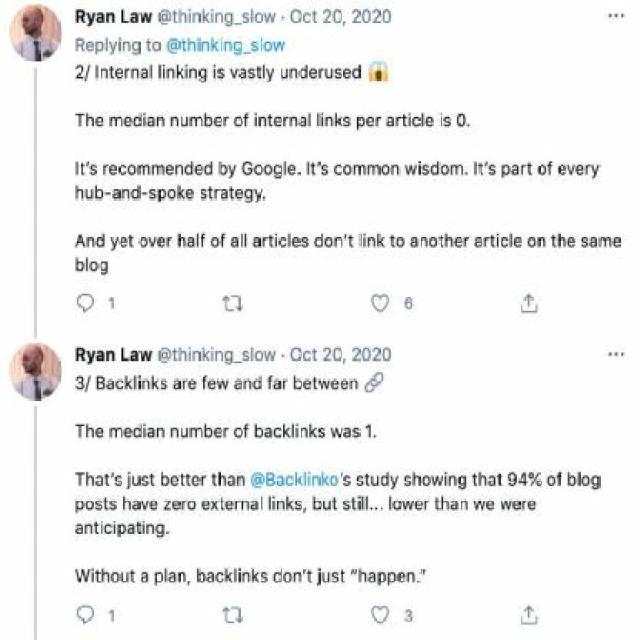0: (457, 112, 466, 128), (333, 8, 341, 24), (362, 8, 370, 24), (383, 8, 391, 24), (383, 346, 391, 362), (333, 347, 341, 361), (362, 347, 370, 361)
1: (108, 296, 115, 310), (108, 609, 115, 622), (366, 424, 372, 438)
2: (74, 64, 84, 80), (352, 346, 361, 362), (323, 8, 331, 24), (372, 8, 380, 24), (323, 346, 331, 362), (373, 346, 381, 362), (352, 8, 359, 24)
3: (76, 376, 84, 390), (404, 609, 412, 622)
4: (518, 472, 528, 488)
6: (404, 296, 413, 310)
9: (508, 472, 517, 488)
A: (95, 349, 106, 362), (76, 234, 86, 248), (298, 116, 308, 129), (386, 116, 396, 129), (252, 236, 262, 249), (588, 236, 598, 249), (187, 236, 196, 250), (410, 236, 419, 250), (95, 474, 104, 488), (227, 474, 236, 488), (488, 474, 497, 488), (74, 522, 83, 536), (127, 522, 136, 536), (140, 570, 149, 584), (168, 570, 177, 584), (207, 570, 216, 584), (238, 68, 248, 80), (172, 378, 182, 390), (96, 11, 105, 24), (130, 12, 139, 25), (147, 116, 156, 129), (230, 236, 239, 249), (473, 236, 482, 249), (130, 349, 139, 362), (106, 378, 115, 391), (233, 378, 242, 391), (263, 426, 272, 439), (250, 499, 259, 512), (276, 474, 284, 488), (368, 570, 376, 584), (343, 426, 351, 439), (132, 499, 140, 512), (450, 499, 458, 512), (140, 68, 148, 80), (512, 164, 520, 176), (112, 188, 120, 200), (220, 188, 228, 200), (147, 428, 156, 438), (273, 378, 281, 389)
B: (204, 423, 213, 439), (254, 423, 263, 439), (160, 471, 169, 487), (197, 568, 206, 584), (218, 160, 228, 174), (312, 496, 322, 510), (266, 472, 276, 486), (95, 184, 104, 199), (76, 256, 84, 272), (568, 471, 576, 487), (204, 113, 213, 127), (96, 376, 105, 390), (293, 376, 302, 390)
C: (284, 474, 294, 488), (214, 570, 223, 584), (278, 235, 287, 248), (104, 522, 113, 535), (302, 12, 312, 23), (118, 164, 127, 176), (412, 115, 420, 128), (116, 378, 124, 391), (274, 426, 282, 439), (303, 349, 311, 362), (334, 164, 342, 176), (501, 236, 508, 249)
D: (298, 64, 308, 80), (252, 374, 262, 390), (273, 567, 282, 584), (184, 160, 193, 176), (96, 232, 105, 248), (133, 423, 142, 439), (353, 64, 361, 80), (314, 232, 322, 248), (133, 113, 142, 127), (204, 162, 213, 176), (131, 186, 140, 200), (381, 471, 388, 487), (431, 161, 438, 176)
E: (612, 236, 622, 249), (115, 66, 124, 80), (123, 114, 132, 128), (214, 114, 223, 128), (170, 474, 179, 488), (397, 570, 406, 584), (302, 378, 312, 390), (95, 116, 104, 129), (273, 116, 282, 129), (119, 236, 128, 249), (157, 235, 166, 248), (454, 236, 463, 249), (567, 235, 576, 248), (188, 378, 197, 391), (95, 426, 104, 439), (123, 426, 132, 439), (213, 426, 222, 439), (201, 499, 210, 512), (224, 498, 233, 511), (414, 499, 423, 512), (528, 499, 537, 512), (192, 474, 200, 488), (109, 164, 118, 176), (164, 164, 173, 176), (194, 164, 203, 176), (287, 164, 296, 176), (234, 188, 243, 200), (367, 115, 375, 128), (425, 116, 433, 129), (292, 235, 300, 248), (514, 236, 522, 249), (172, 499, 180, 512), (487, 499, 495, 512), (512, 498, 520, 511), (150, 499, 158, 512), (308, 68, 318, 78), (86, 40, 95, 51), (208, 379, 217, 390), (343, 68, 351, 80), (558, 164, 566, 176), (576, 164, 584, 176), (186, 188, 194, 200), (340, 378, 348, 390), (332, 378, 339, 390)
F: (558, 470, 564, 488), (243, 112, 249, 128), (547, 160, 553, 176), (200, 232, 206, 248), (202, 374, 208, 390), (243, 423, 249, 439), (267, 374, 273, 389), (221, 234, 227, 248)
G: (241, 161, 254, 176), (198, 67, 208, 84), (224, 12, 233, 28), (233, 40, 242, 56), (273, 164, 282, 180), (244, 188, 253, 204), (224, 350, 233, 366), (157, 523, 166, 539), (458, 474, 466, 491), (100, 260, 108, 276), (592, 474, 600, 490), (132, 41, 140, 56)
H: (478, 471, 488, 486), (412, 472, 422, 486), (122, 496, 132, 510), (86, 471, 95, 486), (218, 471, 227, 486), (179, 8, 187, 24), (444, 232, 452, 248), (558, 232, 566, 248), (86, 423, 94, 439), (188, 37, 196, 51), (75, 184, 83, 198), (179, 347, 187, 361), (102, 568, 110, 582), (359, 568, 367, 582), (86, 113, 94, 127), (178, 234, 185, 248), (442, 496, 449, 510)
I: (416, 160, 422, 176), (306, 472, 312, 486), (495, 232, 500, 248), (443, 471, 448, 486), (356, 496, 361, 510), (408, 111, 412, 127), (274, 232, 278, 248), (272, 496, 276, 510), (211, 8, 214, 24), (220, 35, 223, 51), (185, 63, 188, 79), (213, 64, 216, 80), (143, 112, 146, 128), (254, 111, 257, 127), (440, 112, 443, 128), (143, 422, 146, 438), (100, 520, 103, 536), (91, 568, 94, 584), (197, 37, 200, 51), (162, 64, 165, 78), (363, 232, 366, 246), (211, 347, 214, 361), (113, 520, 116, 534), (306, 162, 309, 176), (474, 162, 477, 176), (188, 8, 190, 24), (118, 36, 120, 52), (322, 112, 324, 128), (188, 346, 190, 362), (138, 374, 140, 390), (296, 423, 298, 439), (142, 519, 144, 535), (96, 64, 98, 80), (76, 161, 78, 176), (238, 568, 240, 582)
J: (124, 472, 130, 490), (316, 568, 321, 586)
K: (202, 8, 210, 24), (210, 36, 218, 52), (176, 64, 184, 80), (334, 112, 342, 128), (377, 232, 385, 248), (309, 423, 317, 439), (202, 347, 210, 361), (124, 376, 132, 390), (282, 424, 290, 438), (294, 472, 302, 486), (286, 496, 294, 510), (252, 568, 260, 582), (152, 376, 160, 390), (322, 471, 329, 486), (178, 186, 185, 200), (225, 568, 232, 582)
L: (120, 9, 129, 23), (120, 347, 128, 361), (158, 64, 162, 80), (262, 64, 266, 78), (388, 496, 392, 510), (251, 8, 254, 24), (105, 36, 108, 52), (85, 256, 88, 272), (251, 346, 254, 362), (303, 471, 306, 487), (164, 568, 167, 584), (150, 64, 153, 78), (316, 113, 319, 127), (196, 234, 199, 248), (240, 232, 243, 246), (244, 234, 247, 248), (510, 234, 513, 248), (134, 376, 137, 390), (577, 472, 580, 486), (234, 569, 237, 583), (283, 160, 286, 173), (292, 423, 294, 439), (260, 38, 262, 52), (308, 113, 310, 127), (422, 113, 424, 127), (288, 234, 290, 248), (360, 233, 362, 247), (260, 496, 262, 510), (268, 496, 270, 510), (362, 496, 364, 510), (366, 496, 368, 510)
M: (598, 235, 612, 248), (190, 114, 202, 128), (352, 164, 366, 176), (449, 164, 463, 176), (151, 164, 164, 176), (109, 115, 123, 126), (138, 164, 150, 176), (368, 164, 380, 176), (109, 428, 123, 438), (190, 428, 202, 438)
N: (188, 66, 198, 80), (131, 66, 140, 80), (407, 570, 416, 584), (242, 378, 252, 390), (106, 11, 115, 24), (537, 235, 546, 248), (106, 349, 115, 362), (157, 426, 166, 439), (276, 499, 286, 510), (174, 164, 183, 176), (192, 349, 200, 362), (460, 499, 468, 512), (146, 524, 156, 534), (292, 572, 302, 582), (201, 40, 210, 51), (223, 40, 232, 51), (157, 116, 166, 127), (170, 116, 179, 127), (258, 116, 267, 127), (214, 350, 223, 361), (241, 499, 250, 510), (84, 523, 93, 534), (122, 188, 130, 200), (167, 68, 176, 78), (170, 428, 179, 438), (237, 476, 246, 486), (312, 476, 321, 486), (178, 572, 187, 582), (215, 12, 223, 23), (123, 40, 131, 51), (290, 115, 298, 126), (325, 115, 333, 126), (87, 236, 95, 247), (334, 237, 342, 248), (368, 236, 376, 247), (420, 237, 428, 248), (142, 379, 150, 390), (350, 378, 358, 389), (300, 427, 308, 438), (391, 164, 398, 176), (192, 12, 200, 22), (100, 68, 108, 78), (290, 68, 298, 78), (448, 476, 456, 486), (242, 572, 250, 582)
O: (290, 8, 302, 24), (290, 347, 302, 362), (428, 235, 438, 248), (547, 474, 556, 488), (110, 570, 119, 584), (283, 570, 292, 584), (342, 164, 352, 176), (233, 115, 242, 128), (211, 235, 220, 248), (527, 236, 536, 249), (233, 426, 242, 439), (85, 498, 94, 511), (187, 499, 196, 512), (330, 474, 338, 488), (582, 474, 590, 488), (127, 164, 136, 176), (253, 164, 262, 176), (264, 164, 273, 176), (167, 188, 176, 200), (140, 236, 148, 249), (324, 235, 332, 248), (397, 236, 405, 249), (393, 499, 401, 512), (263, 40, 272, 51), (254, 350, 263, 361), (90, 260, 98, 272), (538, 164, 546, 176), (254, 12, 263, 22), (382, 164, 389, 176), (442, 164, 449, 176), (153, 42, 161, 52), (422, 476, 430, 486)
P: (96, 40, 104, 56), (357, 115, 365, 131), (76, 498, 84, 514), (117, 524, 126, 538), (154, 572, 163, 586), (502, 164, 510, 178), (378, 572, 386, 586), (388, 572, 396, 586), (157, 189, 165, 202)
R: (76, 8, 86, 24), (76, 348, 86, 362), (76, 38, 85, 52), (124, 66, 130, 80), (102, 164, 109, 176), (520, 162, 526, 175), (464, 235, 470, 248), (182, 499, 188, 512), (424, 499, 430, 512), (214, 188, 220, 200), (319, 66, 324, 80), (223, 115, 229, 126), (282, 115, 288, 126), (376, 115, 382, 126), (396, 115, 402, 126), (166, 236, 172, 247), (262, 236, 268, 247), (282, 378, 288, 389), (223, 427, 229, 438), (234, 499, 240, 510), (522, 499, 528, 510), (182, 378, 188, 389), (585, 164, 590, 176), (201, 476, 207, 486), (484, 236, 488, 247)
S: (114, 474, 123, 488), (148, 188, 158, 200), (444, 114, 452, 128), (142, 474, 150, 488), (343, 474, 351, 488), (356, 474, 364, 488), (404, 474, 412, 488), (260, 570, 268, 584), (342, 115, 350, 128), (582, 236, 590, 249), (160, 378, 168, 391), (318, 426, 326, 439), (94, 498, 102, 511), (109, 498, 117, 511), (294, 498, 302, 511), (352, 426, 360, 439), (241, 351, 250, 362), (248, 66, 255, 80), (331, 570, 338, 584), (334, 68, 342, 80), (90, 164, 98, 176), (488, 164, 496, 176), (199, 188, 207, 200), (242, 12, 250, 23), (250, 40, 258, 51), (302, 237, 310, 248), (342, 499, 350, 510), (422, 164, 429, 176), (217, 68, 225, 78), (322, 164, 328, 176)
T: (74, 471, 86, 487), (74, 424, 86, 438), (76, 112, 84, 126), (108, 66, 115, 79), (172, 9, 178, 23), (312, 9, 318, 23), (146, 38, 152, 52), (181, 38, 187, 52), (266, 114, 272, 128), (402, 114, 408, 128), (526, 162, 532, 176), (207, 186, 213, 200), (128, 234, 134, 248), (390, 234, 396, 248), (490, 234, 496, 248), (172, 348, 178, 362), (364, 472, 370, 486), (472, 472, 478, 486), (434, 497, 440, 511), (136, 520, 142, 534), (312, 348, 318, 362), (256, 66, 262, 79), (310, 162, 316, 175), (478, 162, 484, 175), (228, 187, 234, 200), (268, 235, 274, 248), (348, 235, 354, 248), (438, 235, 444, 248), (180, 474, 186, 486), (211, 474, 217, 486), (496, 474, 502, 486), (218, 498, 224, 510), (351, 498, 357, 510), (306, 570, 312, 582), (312, 376, 317, 390), (150, 473, 155, 487), (185, 472, 190, 486), (332, 497, 337, 511), (130, 569, 135, 583), (340, 570, 345, 584), (80, 162, 85, 175), (95, 570, 100, 582), (552, 234, 556, 248), (105, 472, 109, 486), (94, 522, 98, 535), (104, 498, 108, 510)
U: (325, 66, 333, 80), (132, 474, 140, 488), (323, 499, 331, 512), (180, 117, 189, 128), (85, 188, 93, 200), (280, 68, 288, 78), (180, 428, 188, 438), (120, 572, 128, 582), (322, 572, 329, 583), (371, 476, 378, 486)
V: (140, 498, 149, 511), (567, 162, 575, 175), (148, 235, 156, 248), (230, 68, 238, 78)
W: (75, 568, 91, 584), (330, 426, 344, 439), (404, 164, 418, 176), (216, 378, 230, 390), (264, 11, 276, 24), (139, 12, 153, 23), (272, 40, 286, 51), (138, 351, 152, 362), (263, 351, 277, 362), (400, 500, 414, 511), (498, 500, 512, 511), (318, 378, 331, 389), (430, 476, 444, 486), (474, 500, 486, 511)
X: (210, 500, 218, 511)
Y: (266, 68, 276, 84), (87, 11, 96, 27), (87, 350, 96, 366), (110, 236, 119, 252), (228, 164, 236, 180), (254, 188, 262, 204), (592, 164, 600, 179), (108, 40, 116, 54), (391, 474, 398, 490)
Z: (164, 499, 172, 512)
